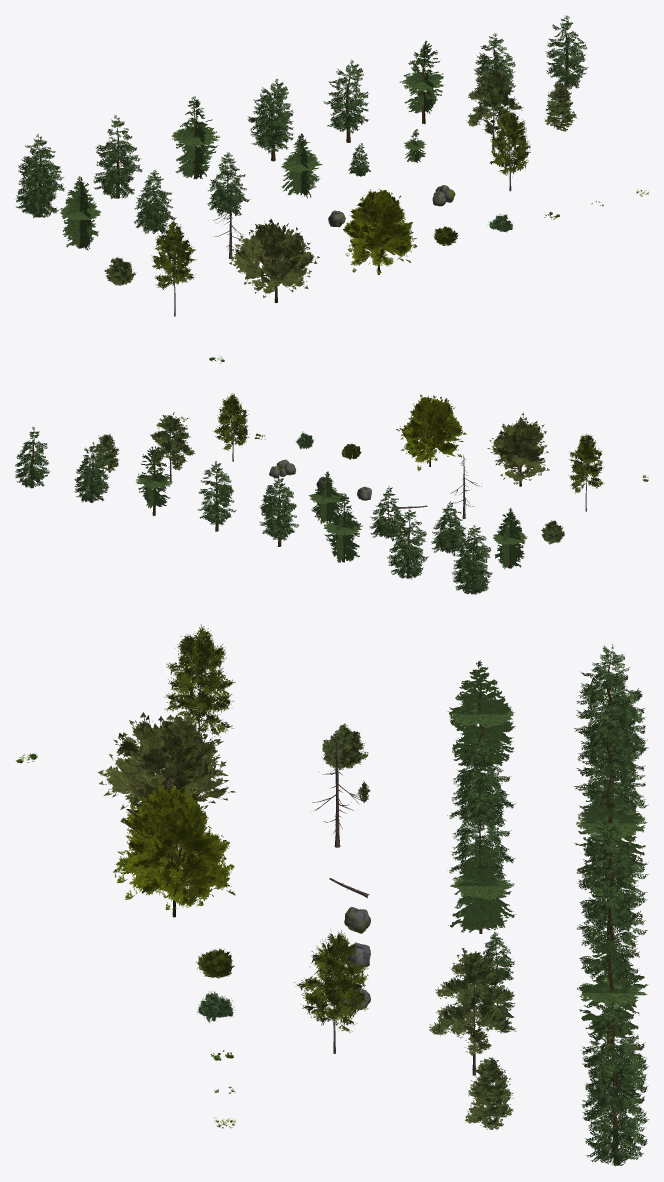
File: scenery.glb
The picture shows the model from 3 angles, top to bottom: view 1: azimuth 30°, elevation 25°; view 2: azimuth 150°, elevation 25°; view 3: azimuth 270°, elevation 25°; orthographic projection. The views are drawn at different scales.
Visible parts, largest first — view 1: N_oak__Leaves, N_maple__Leaves, N_fir1__Leaves, N_fir1_m__Leaves, N_fir2__Leaves, N_fir1_f__Leaves, N_pine__Leaves, N_fir2_m__Leaves, N_birch2__Leaves, N_fir3_f__Leaves, N_birch1__Leaves, N_fir2_f__Leaves (+7 smaller); view 2: N_maple__Leaves, N_oak__Leaves, N_fir1__Leaves, N_fir1_m__Leaves, N_fir2__Leaves, N_fir1_f__Leaves, N_pine__Leaves, N_fir2_m__Leaves, N_fir3__Leaves, N_birch2__Leaves, N_fir2_f__Leaves, N_fir3_f__Leaves (+8 smaller); view 3: N_maple__Leaves, N_oak__Leaves, N_pine__Leaves, N_fir1__Leaves, N_birch2__Leaves, N_fir3_m__Leaves, N_fir3_f__Leaves, N_fir2__Leaves, N_birch1__Leaves, N_fir3__Leaves, N_fir1_m__Leaves, N_fir2_f__Leaves (+9 smaller).
Boxes of the visible parts, left/top/right/bottom form: N_oak__Leaves: left=229, top=219, right=319, bottom=297; N_maple__Leaves: left=343, top=188, right=417, bottom=274; N_fir1__Leaves: left=15, top=134, right=65, bottom=218; N_fir1_m__Leaves: left=93, top=115, right=142, bottom=199; N_fir2__Leaves: left=247, top=79, right=294, bottom=153; N_fir1_f__Leaves: left=171, top=96, right=220, bottom=179; N_pine__Leaves: left=466, top=66, right=523, bottom=134; N_fir2_m__Leaves: left=323, top=60, right=369, bottom=133; N_birch2__Leaves: left=151, top=219, right=196, bottom=289; N_fir3_f__Leaves: left=60, top=176, right=101, bottom=250; N_birch1__Leaves: left=489, top=110, right=530, bottom=177; N_fir2_f__Leaves: left=399, top=40, right=443, bottom=124; N_maple__Leaves: left=396, top=394, right=466, bottom=470; N_oak__Leaves: left=487, top=412, right=549, bottom=484; N_fir1__Leaves: left=451, top=525, right=492, bottom=594; N_fir1_m__Leaves: left=387, top=509, right=428, bottom=579; N_fir2__Leaves: left=259, top=476, right=299, bottom=540; N_fir1_f__Leaves: left=323, top=493, right=362, bottom=562; N_pine__Leaves: left=150, top=412, right=195, bottom=470; N_fir2_m__Leaves: left=197, top=461, right=236, bottom=525; N_fir3__Leaves: left=74, top=442, right=109, bottom=502; N_birch2__Leaves: left=568, top=433, right=604, bottom=493; N_fir2_f__Leaves: left=136, top=446, right=172, bottom=516; N_fir3_f__Leaves: left=493, top=508, right=527, bottom=569; N_maple__Leaves: left=113, top=785, right=235, bottom=910; N_oak__Leaves: left=98, top=711, right=235, bottom=820; N_pine__Leaves: left=429, top=948, right=516, bottom=1056; N_fir1__Leaves: left=574, top=644, right=648, bottom=770; N_birch2__Leaves: left=164, top=624, right=235, bottom=737; N_fir3_m__Leaves: left=581, top=1052, right=649, bottom=1166; N_fir3_f__Leaves: left=447, top=660, right=515, bottom=769; N_fir2__Leaves: left=577, top=820, right=648, bottom=933; N_birch1__Leaves: left=294, top=929, right=368, bottom=1032; N_fir3__Leaves: left=580, top=1000, right=649, bottom=1111; N_fir1_m__Leaves: left=574, top=702, right=648, bottom=818; N_fir2_f__Leaves: left=577, top=931, right=648, bottom=1056.
Bounding box in the file's own units: 351 × 55.82 × 223.
Materials: 32 (32 with a texture image).
